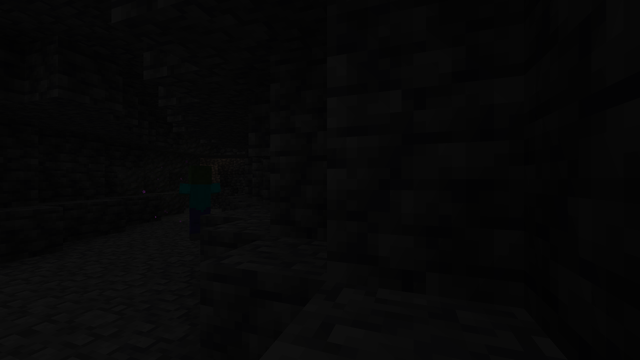zombies: (182, 167, 216, 241)
